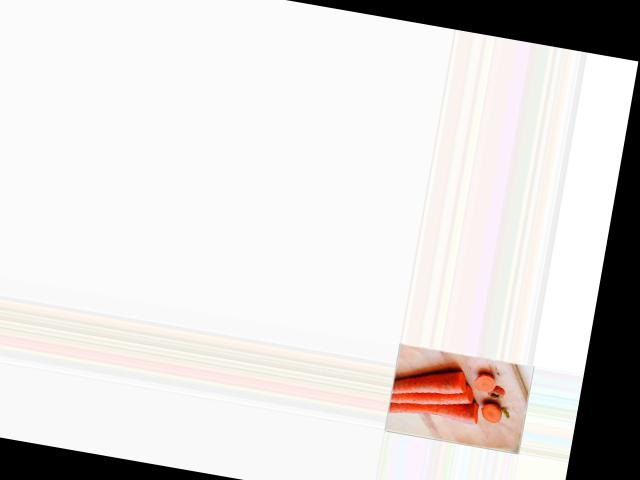carrot: (390, 360, 476, 402)
